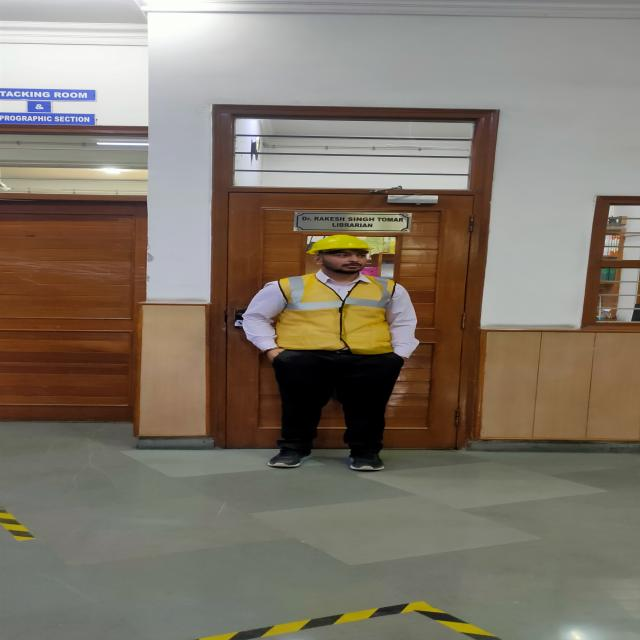safe: (267, 235, 418, 470)
